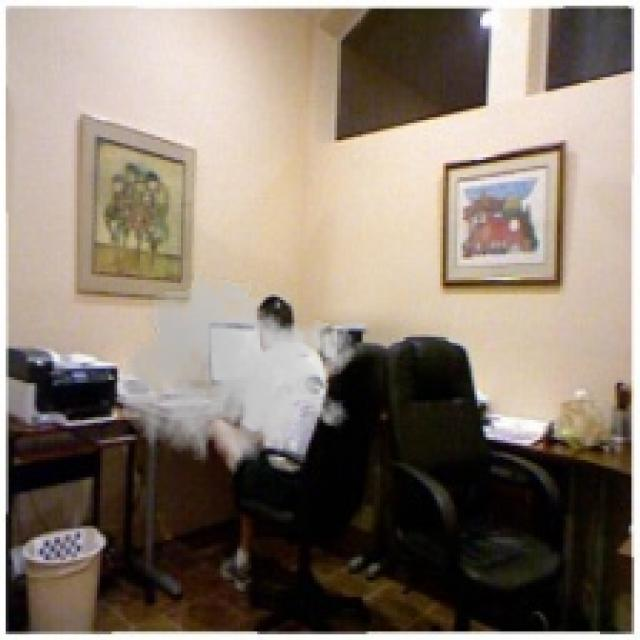smoke: (117, 266, 357, 486)
